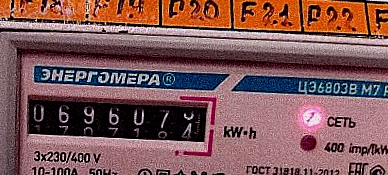0: (130, 104, 147, 126), (30, 101, 46, 123)
4: (180, 120, 194, 141)
6: (105, 104, 121, 125), (56, 101, 71, 123)
7: (155, 107, 172, 129)
9: (80, 103, 95, 124)
screen: (12, 83, 221, 154)
